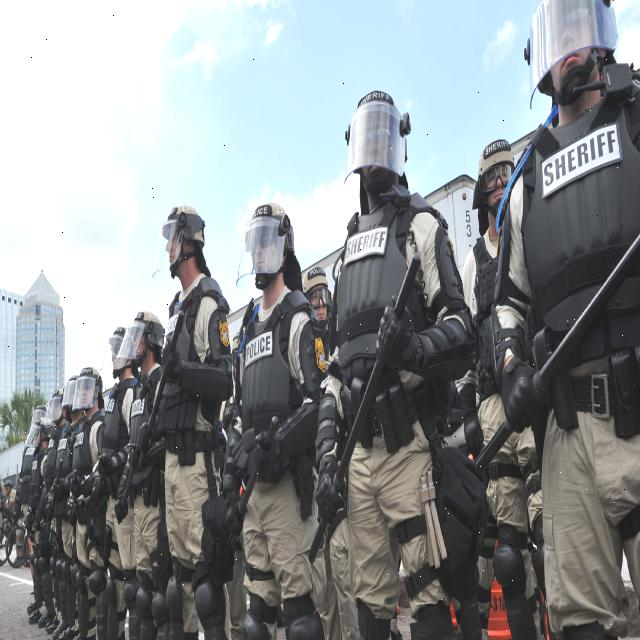police: (320, 69, 472, 640), (521, 0, 640, 640), (455, 102, 554, 640), (232, 180, 316, 640), (154, 192, 232, 640), (13, 353, 100, 640), (97, 306, 164, 640)
